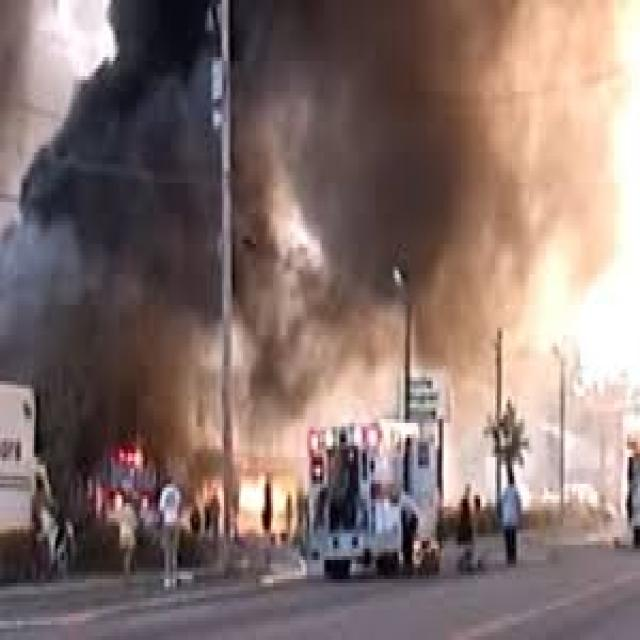smoke: (2, 4, 224, 385), (410, 4, 629, 362), (239, 4, 403, 426)
